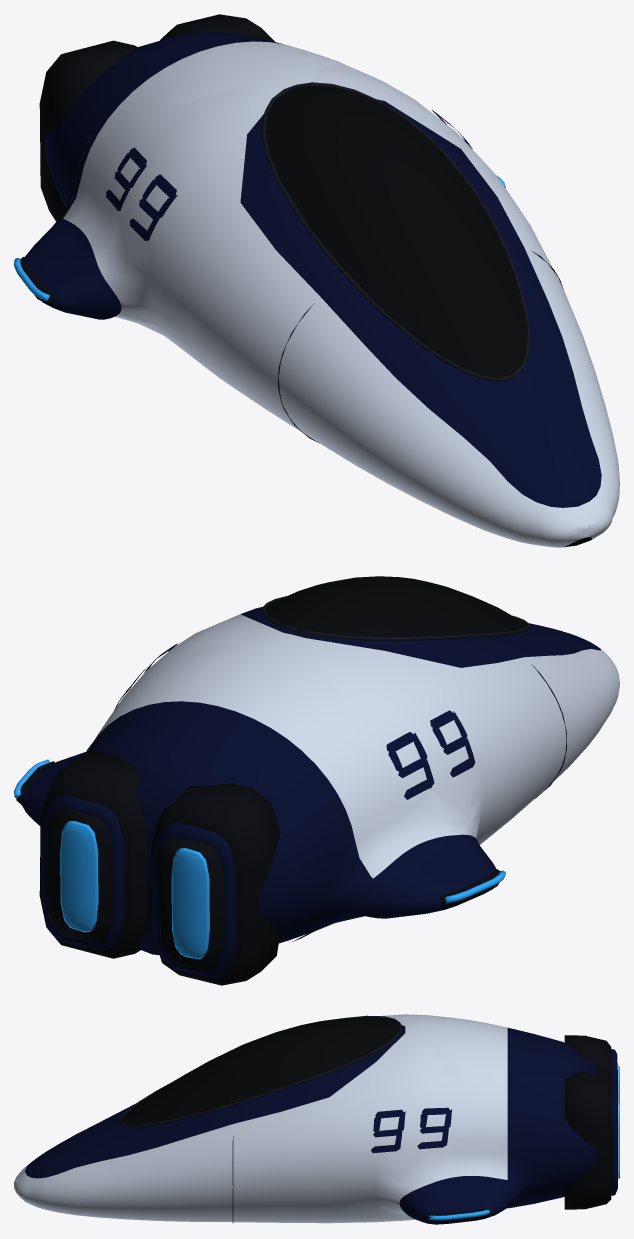
The model's file is f0_coffine.obj.
3 renders of one model, top to bottom at view 1: azimuth 30°, elevation 25°; view 2: azimuth 150°, elevation 25°; view 3: azimuth 270°, elevation 25°, orthographic. The views are drawn at different scales.
Visible parts, largest first — view 1: Body_Painted, Glass_Canopy, Mechanical_Details, Number_Decal_L; view 2: Body_Painted, Mechanical_Details, Glass_Canopy, Light_Lenses, Number_Decal_L; view 3: Body_Painted, Glass_Canopy, Mechanical_Details, Number_Decal_R, Light_Lenses.
Part boxes in pixels (x1=…): Body_Painted: x1=25, y1=31, x2=619, y2=547; Glass_Canopy: x1=261, y1=82, x2=530, y2=381; Mechanical_Details: x1=20, y1=14, x2=563, y2=443; Number_Decal_L: x1=106, y1=147, x2=177, y2=240; Body_Painted: x1=21, y1=607, x2=619, y2=954; Mechanical_Details: x1=16, y1=664, x2=566, y2=985; Glass_Canopy: x1=262, y1=576, x2=530, y2=640; Light_Lenses: x1=14, y1=759, x2=505, y2=959; Number_Decal_L: x1=386, y1=710, x2=475, y2=799; Body_Painted: x1=14, y1=1014, x2=595, y2=1224; Glass_Canopy: x1=119, y1=1015, x2=401, y2=1127; Mechanical_Details: x1=232, y1=1035, x2=617, y2=1223; Number_Decal_R: x1=371, y1=1107, x2=451, y2=1153; Light_Lenses: x1=429, y1=1065, x2=619, y2=1220.
Size of the model in its own units: 3.46 by 1.94 by 5.81.
7 materials, 1 textured.
